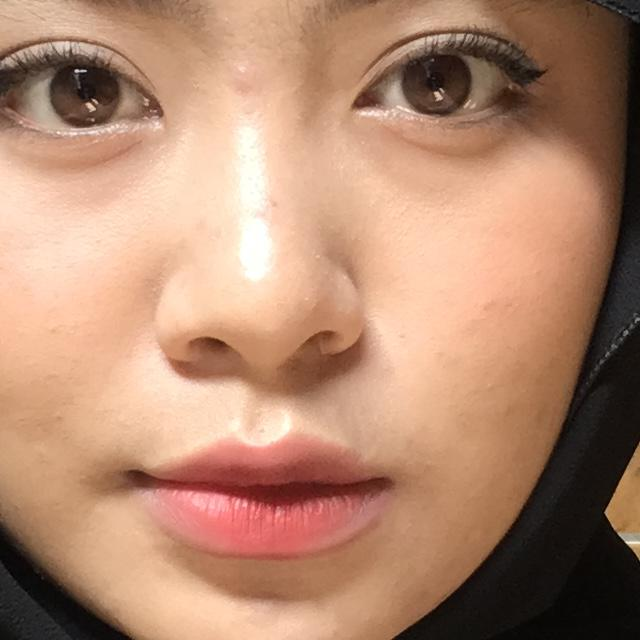ibu: (0, 176, 265, 640)
